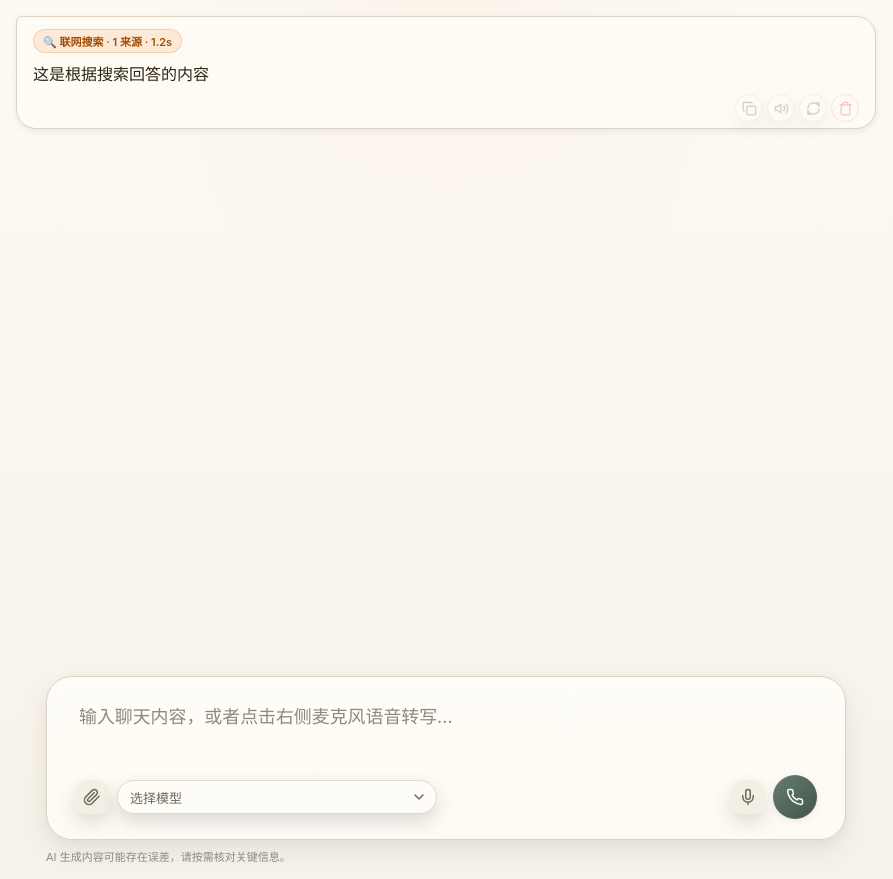
ChatPage › toggles web search sources card when search badge is clicked
Expected: the text "搜索关键词" is not shown
Step 1. Click the text "🔍 联网搜索 · 1 来源 · 1.2s" → {"x": 108, "y": 41}, box [33,29,182,53]
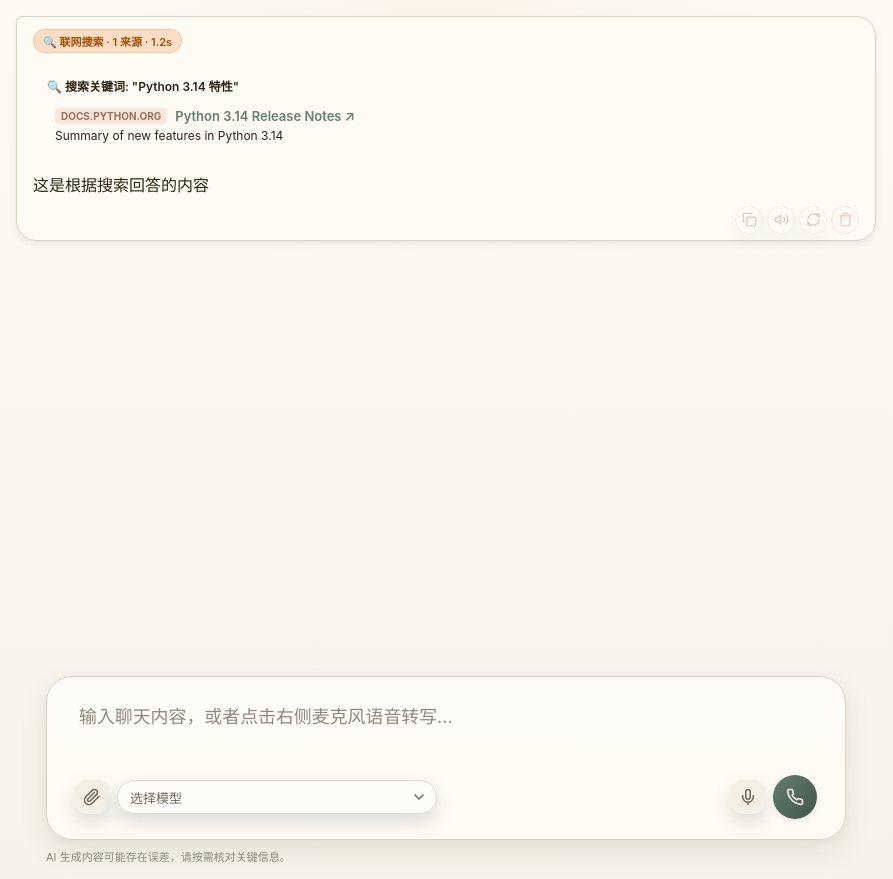
Now the text "🔍 搜索关键词: \"Python 3.14 特性\"" is shown, box [47,79,239,94]
Now the text "Summary of new features in Python 3.14" is shown, box [55,128,283,143]
